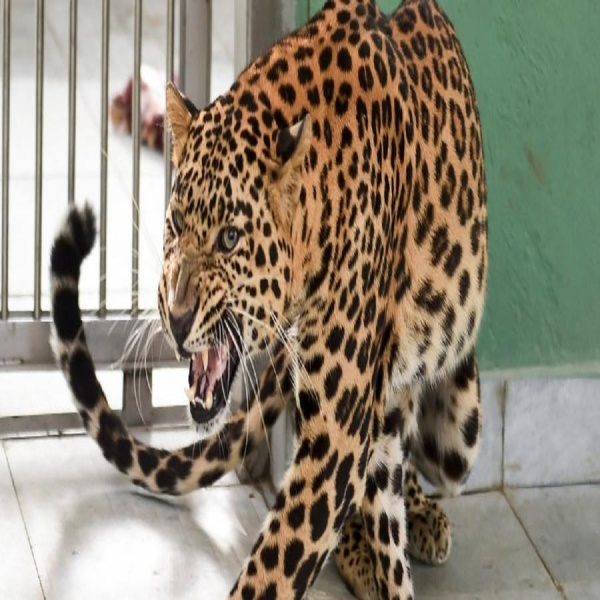Leopard: (49, 7, 494, 600)
